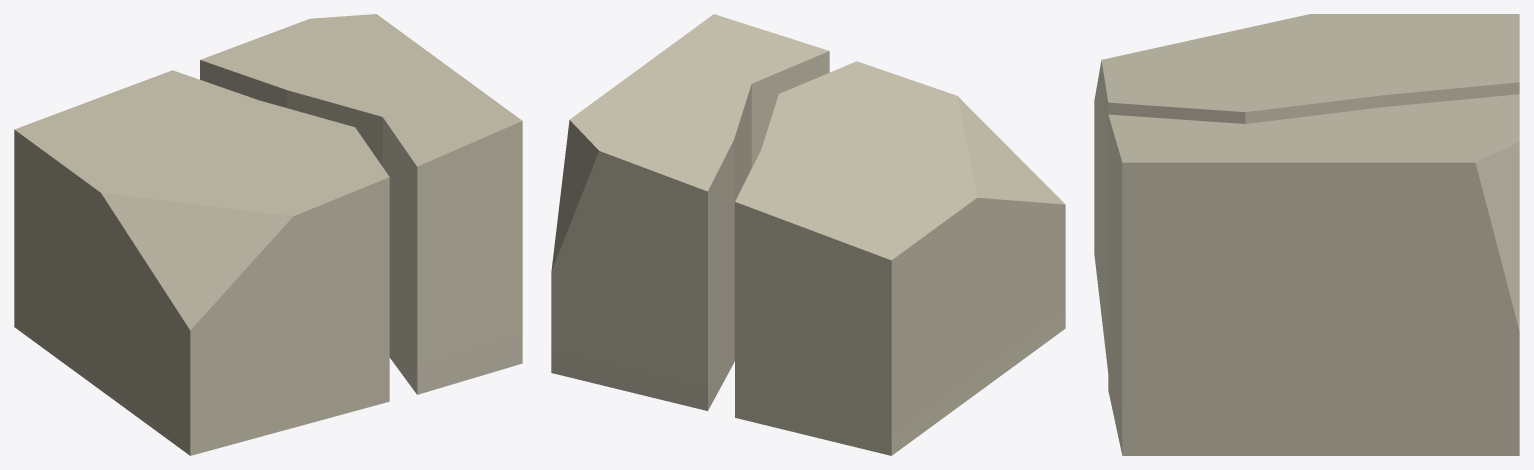
File: rock-square-crk-s-01.glb
3 views of the same model, side by side, from view 1: azimuth 30°, elevation 25°; view 2: azimuth 150°, elevation 25°; view 3: azimuth 270°, elevation 25° (orthographic). The views are drawn at different scales.
Parts seen in each view (by area): view 1: Rock_Square_crk_s_01; view 2: Rock_Square_crk_s_01; view 3: Rock_Square_crk_s_01.
Part boxes in pixels (bbox=[...]): Rock_Square_crk_s_01: bbox=[14, 14, 522, 455]; Rock_Square_crk_s_01: bbox=[551, 14, 1065, 455]; Rock_Square_crk_s_01: bbox=[1094, 14, 1519, 455].
Size of the model in its own units: 0.4372 by 0.2949 by 0.3875.
Materials: 1 (1 with a texture image).
